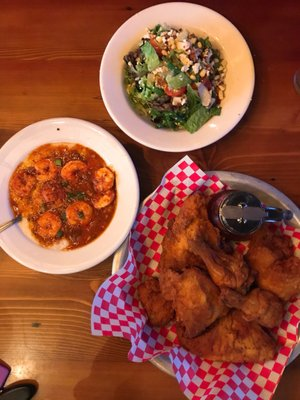curry: (139, 39, 160, 73)
sushi: (98, 2, 255, 154), (0, 118, 140, 274)
